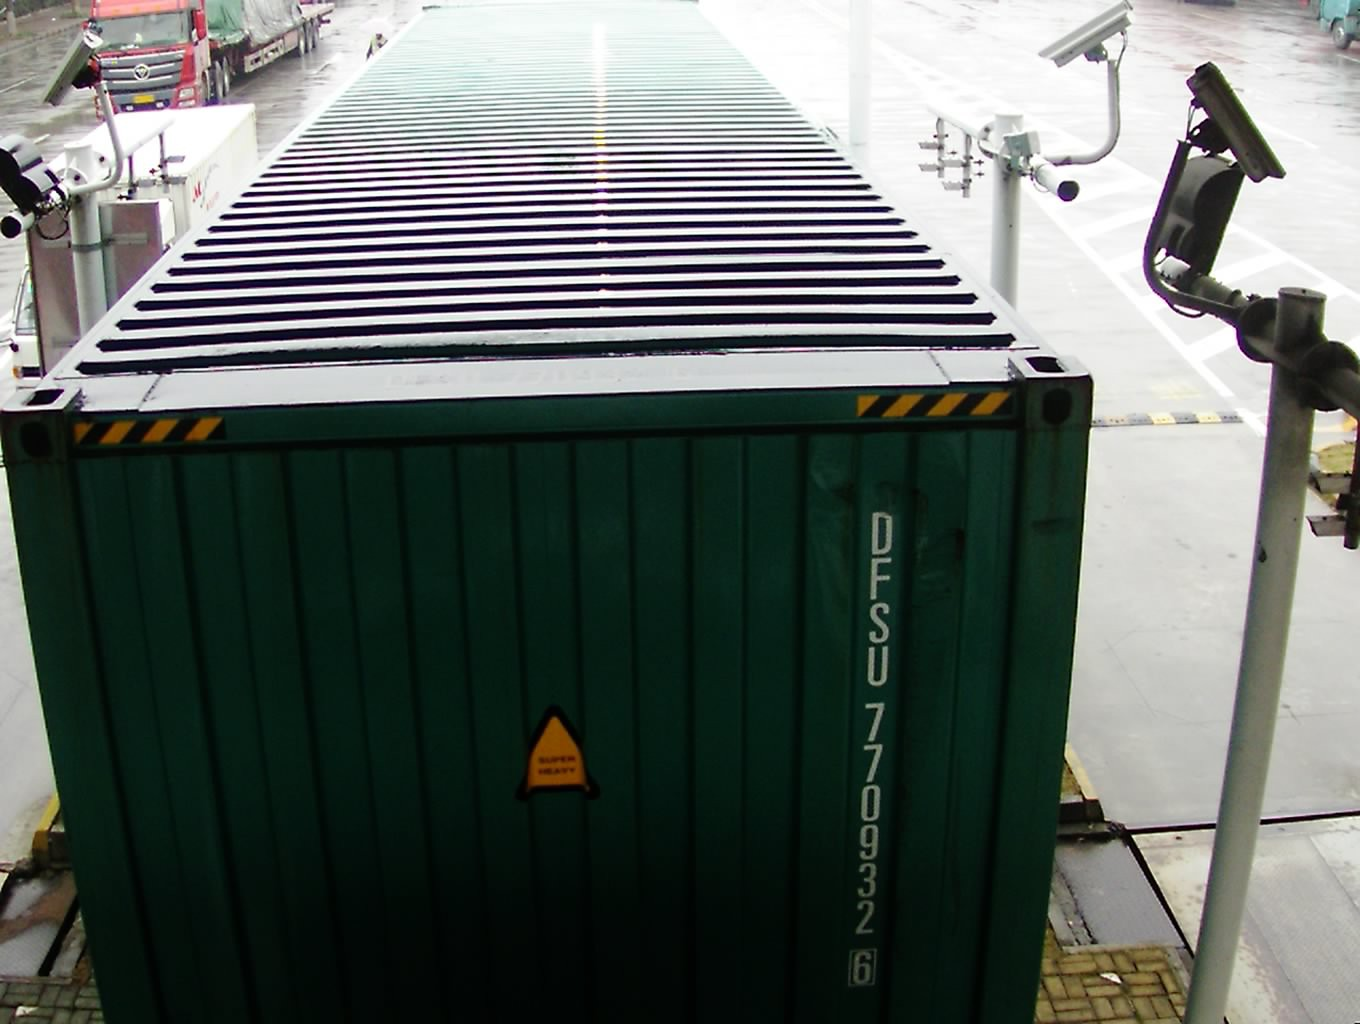words: (841, 504, 900, 991)
